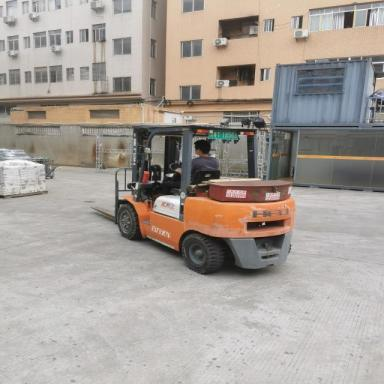forklift: (108, 124, 303, 282)
